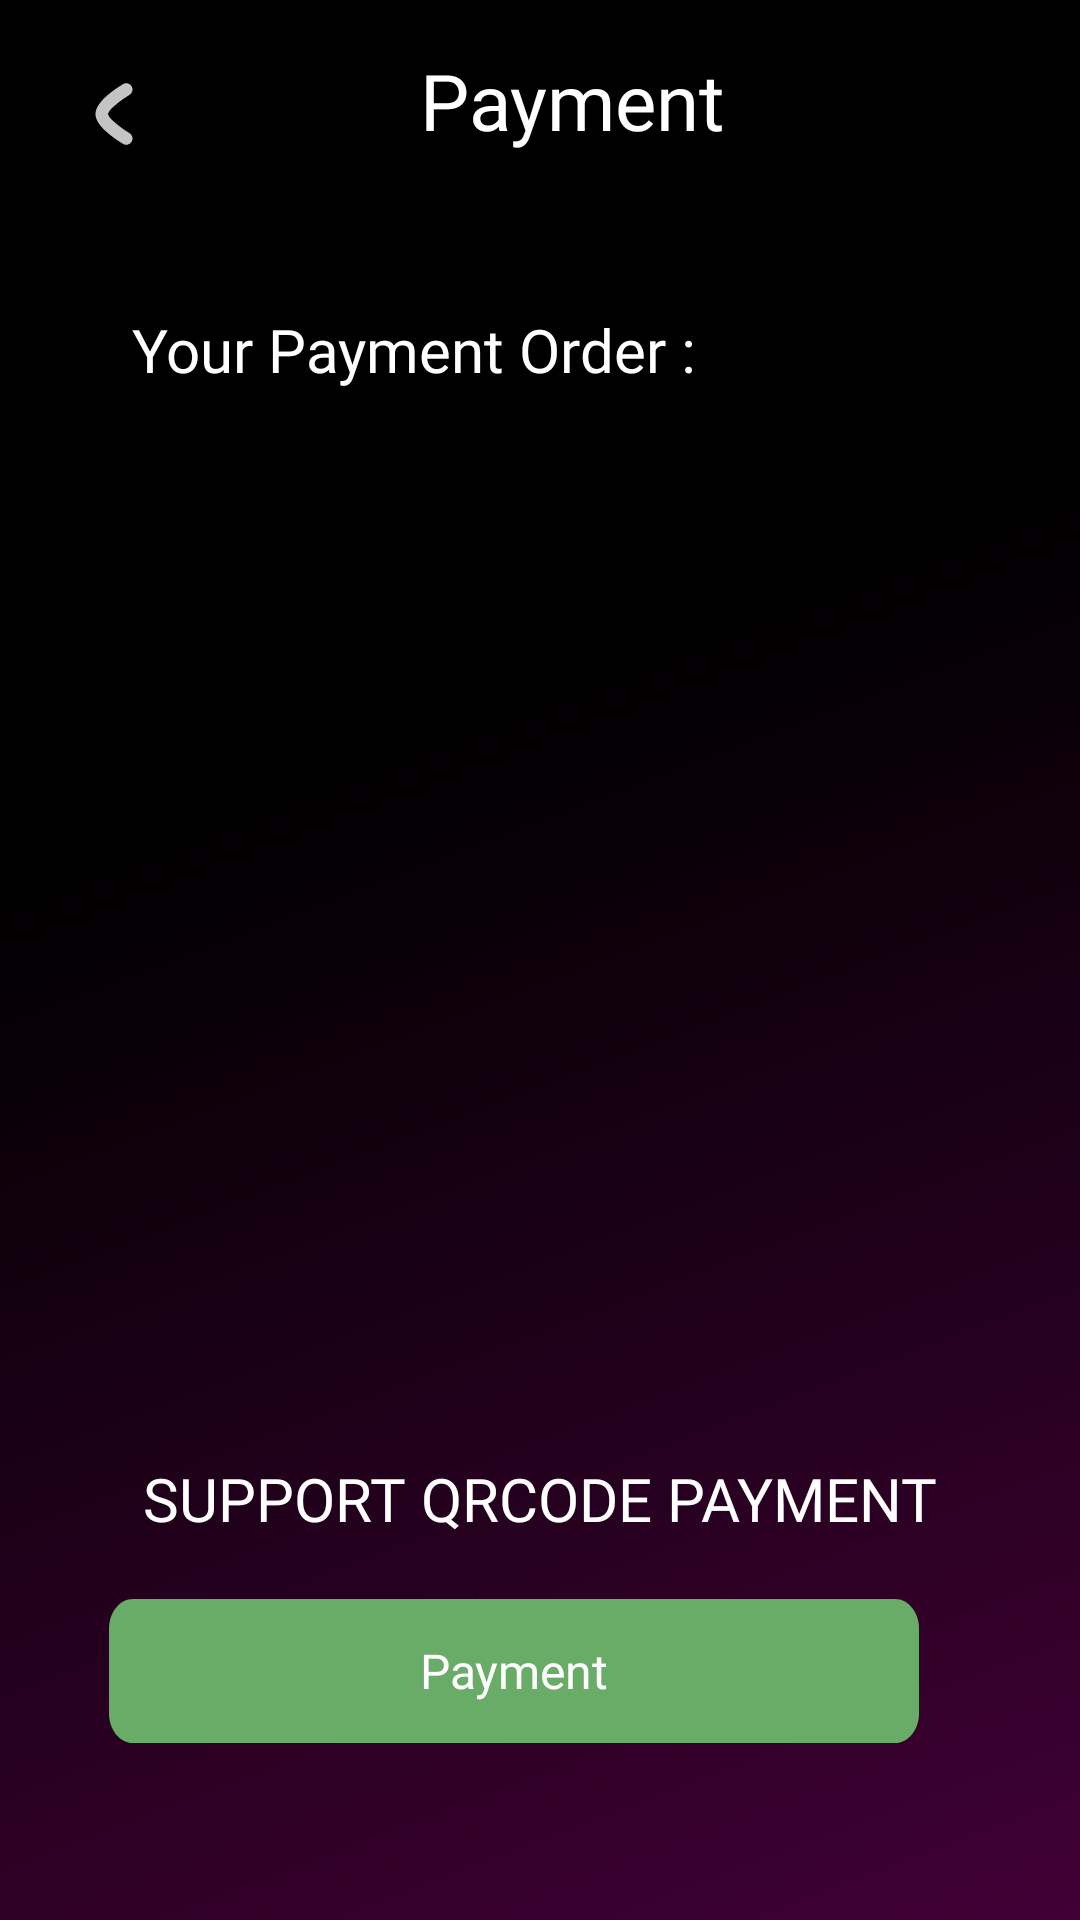

Icon click points for this 1080*1920 phone screenshot, format [x,y]:
back: [114,114]
